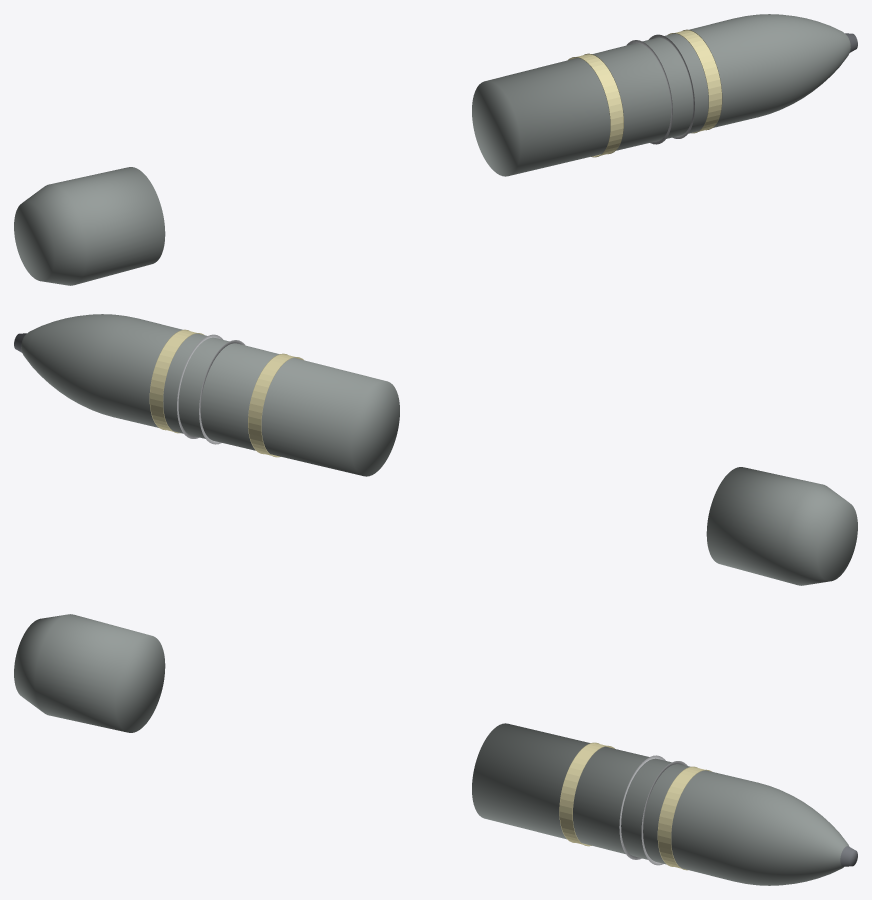
The model's file is RU_SLBM_R21_LOD0.fbx.
3 renders of one model, top to bottom at view 1: azimuth 30°, elevation 25°; view 2: azimuth 150°, elevation 25°; view 3: azimuth 330°, elevation 25°, orthographic.
Parts seen in each view (by area): view 1: WPN_RU_SLBM_R21_LOD0_Body, WPN_RU_SLBM_R21_LOD0_Tail, WPN_RU_SLBM_R21_LOD0_Marking, WPN_RU_SLBM_R21_LOD0_Detail; view 2: WPN_RU_SLBM_R21_LOD0_Body, WPN_RU_SLBM_R21_LOD0_Tail, WPN_RU_SLBM_R21_LOD0_Marking, WPN_RU_SLBM_R21_LOD0_Detail; view 3: WPN_RU_SLBM_R21_LOD0_Body, WPN_RU_SLBM_R21_LOD0_Tail, WPN_RU_SLBM_R21_LOD0_Marking, WPN_RU_SLBM_R21_LOD0_Detail.
Part boxes in pixels (box(x1,y1,x2,y2)): WPN_RU_SLBM_R21_LOD0_Body: box(472, 14, 850, 176); WPN_RU_SLBM_R21_LOD0_Tail: box(14, 167, 165, 285); WPN_RU_SLBM_R21_LOD0_Marking: box(568, 29, 722, 157); WPN_RU_SLBM_R21_LOD0_Detail: box(626, 34, 694, 144); WPN_RU_SLBM_R21_LOD0_Body: box(21, 314, 399, 476); WPN_RU_SLBM_R21_LOD0_Tail: box(706, 467, 857, 585); WPN_RU_SLBM_R21_LOD0_Marking: box(149, 329, 303, 457); WPN_RU_SLBM_R21_LOD0_Detail: box(177, 334, 245, 444); WPN_RU_SLBM_R21_LOD0_Body: box(472, 723, 854, 885); WPN_RU_SLBM_R21_LOD0_Tail: box(14, 614, 165, 732); WPN_RU_SLBM_R21_LOD0_Marking: box(559, 742, 711, 870); WPN_RU_SLBM_R21_LOD0_Detail: box(619, 755, 687, 865).
Size of the model in its own units: 13 by 1.47 by 1.47.
